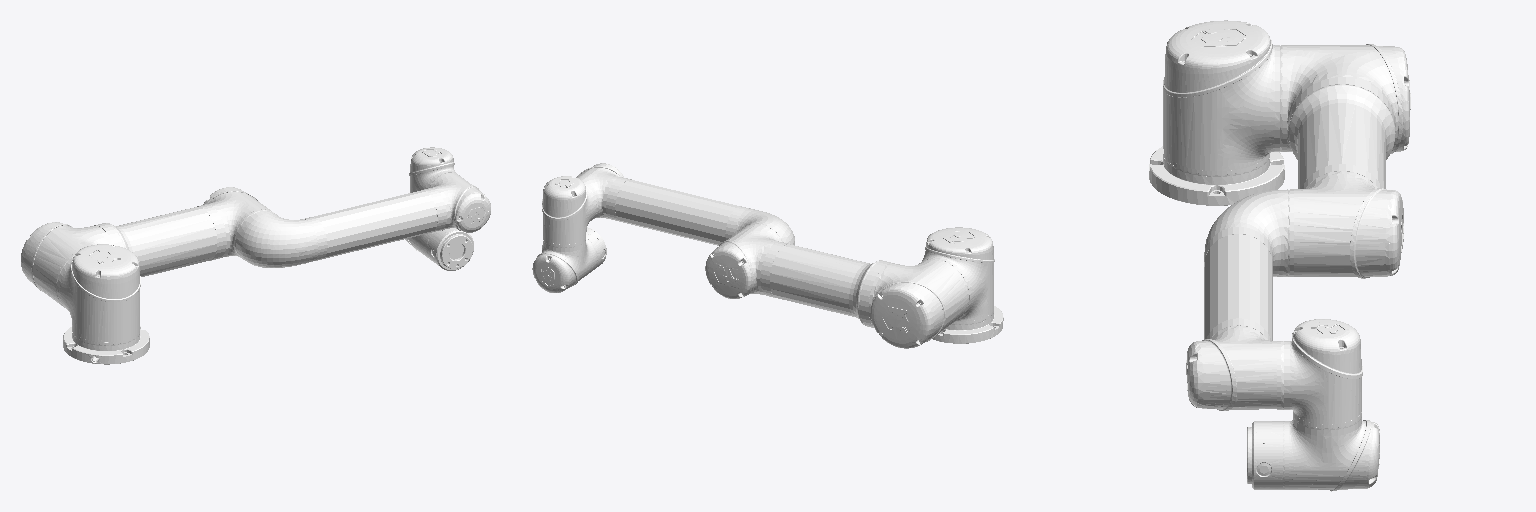
The robot description file, URDF, robot "ec68":
<?xml version="1.0" encoding="utf-8"?>
<robot
  name="ec68">
  <link name="world" />
  <joint name="world_joint" type="fixed">
    <origin xyz="0 0 0" rpy="0 0 0" />
    <parent link="world" />
    <child link="Base" />
  </joint>
  <link
    name="Base">
    <inertial>
      <origin
        xyz="0.00025241 0.00025241 0.012621"
        rpy="0 0 0" />
      <mass
        value="0.41638" />
      <inertia
        ixx="0.0005425"
        ixy="3.8503E-06"
        ixz="3.8056E-07"
        iyy="0.0005425"
        iyz="3.8056E-07"
        izz="0.0010347" />
    </inertial>
    <visual>
      <origin
        xyz="0 0 0"
        rpy="0 0 0" />
      <geometry>
        <mesh
          filename="package://elite_description/meshes/ec68/Base.STL" />
      </geometry>
      <material
        name="">
        <color
          rgba="1 1 1 1" />
      </material>
    </visual>
    <collision>
      <origin
        xyz="0 0 0"
        rpy="0 0 0" />
      <geometry>
        <mesh
          filename="package://elite_description/meshes/ec68/Base.STL" />
      </geometry>
    </collision>
  </link>
  <link
    name="Link1">
    <inertial>
      <origin
        xyz="6E-05 0.01652 0.0816"
        rpy="0 0 0" />
      <mass
        value="4.44" />
      <inertia
        ixx="0.010961"
        ixy="-1.68E-06"
        ixz="5.27E-06"
        iyy="0.007124"
        iyz="0.0010949"
        izz="0.01085" />
    </inertial>
    <visual>
      <origin
        xyz="0 0 0"
        rpy="0 0 0" />
      <geometry>
        <mesh
          filename="package://elite_description/meshes/ec68/Link1.STL" />
      </geometry>
      <material
        name="">
        <color
          rgba="1 1 1 1" />
      </material>
    </visual>
    <collision>
      <origin
        xyz="0 0 0"
        rpy="0 0 0" />
      <geometry>
        <mesh
          filename="package://elite_description/meshes/ec68/Link1.STL" />
      </geometry>
    </collision>
  </link>
  <joint
    name="joint1"
    type="revolute">
    <origin
      xyz="0 0 0"
      rpy="0 0 0" />
    <parent
      link="Base" />
    <child
      link="Link1" />
    <axis
      xyz="0 0 1" />
    <limit lower="-6.2832" upper="6.2832" effort="150" velocity="2.6199" />
  </joint>
  <link
    name="Link2">
    <inertial>
      <origin
        xyz="0.12147 0.00011 0.124"
        rpy="0 0 0" />
      <mass
        value="6.39" />
      <inertia
        ixx="0.010675"
        ixy="4.221E-05"
        ixz="0.0005118"
        iyy="0.15081"
        iyz="-1.804E-05"
        izz="0.1503" />
    </inertial>
    <visual>
      <origin
        xyz="0 0 0"
        rpy="0 0 0" />
      <geometry>
        <mesh
          filename="package://elite_description/meshes/ec68/Link2.STL" />
      </geometry>
      <material
        name="">
        <color
          rgba="1 1 1 1" />
      </material>
    </visual>
    <collision>
      <origin
        xyz="0 0 0"
        rpy="0 0 0" />
      <geometry>
        <mesh
          filename="package://elite_description/meshes/ec68/Link2.STL" />
      </geometry>
    </collision>
  </link>
  <joint
    name="joint2"
    type="revolute">
    <origin
      xyz="0 0 0.096"
      rpy="-1.5708 0 0" />
    <parent
      link="Link1" />
    <child
      link="Link2" />
    <axis
      xyz="0 0 1" />
    <limit lower="-6.2832" upper="6.2832" effort="150" velocity="2.6199" />
  </joint>
  <link
    name="Link3">
    <inertial>
      <origin
        xyz="0.18265 0.00011 0.04433"
        rpy="0 0 0" />
      <mass
        value="2.41" />
      <inertia
        ixx="0.0039137"
        ixy="3.401E-05"
        ixz="-0.004109"
        iyy="0.066574"
        iyz="9.63E-06"
        izz="0.065315" />
    </inertial>
    <visual>
      <origin
        xyz="0 0 0"
        rpy="0 0 0" />
      <geometry>
        <mesh
          filename="package://elite_description/meshes/ec68/Link3.STL" />
      </geometry>
      <material
        name="">
        <color
          rgba="1 1 1 1" />
      </material>
    </visual>
    <collision>
      <origin
        xyz="0 0 0"
        rpy="0 0 0" />
      <geometry>
        <mesh
          filename="package://elite_description/meshes/ec68/Link3.STL" />
      </geometry>
    </collision>
  </link>
  <joint
    name="joint3"
    type="revolute">
    <origin
      xyz="0.352 0 0"
      rpy="0 0 0" />
    <parent
      link="Link2" />
    <child
      link="Link3" />
    <axis
      xyz="0 0 1" />
    <limit lower="-6.2832" upper="6.2832" effort="150" velocity="3.3161" />
  </joint>
  <link
    name="Link4">
    <inertial>
      <origin
        xyz="-0.00022 0.01238 0.1069"
        rpy="0 0 0" />
      <mass
        value="1.1" />
      <inertia
        ixx="0.001562"
        ixy="7.41E-06"
        ixz="5.3E-07"
        iyy="0.001361"
        iyz="0.0002113"
        izz="0.000988" />
    </inertial>
    <visual>
      <origin
        xyz="0 0 0"
        rpy="0 0 0" />
      <geometry>
        <mesh
          filename="package://elite_description/meshes/ec68/Link4.STL" />
      </geometry>
      <material
        name="">
        <color
          rgba="1 1 1 1" />
      </material>
    </visual>
    <collision>
      <origin
        xyz="0 0 0"
        rpy="0 0 0" />
      <geometry>
        <mesh
          filename="package://elite_description/meshes/ec68/Link4.STL" />
      </geometry>
    </collision>
  </link>
  <joint
    name="joint4"
    type="revolute">
    <origin
      xyz="0.37 0 0"
      rpy="0 0 0" />
    <parent
      link="Link3" />
    <child
      link="Link4" />
    <axis
      xyz="0 0 1" />
    <limit lower="-6.2832" upper="6.2832" effort="28" velocity="4.5379" />
  </joint>
  <link
    name="Link5">
    <inertial>
      <origin
        xyz="-0.00022 0.01238 0.0829"
        rpy="0 0 0" />
      <mass
        value="1.1" />
      <inertia
        ixx="0.0015621"
        ixy="7.41E-06"
        ixz="5.3E-07"
        iyy="0.0013613"
        iyz="0.0002113"
        izz="0.0009879" />
    </inertial>
    <visual>
      <origin
        xyz="0 0 0"
        rpy="0 0 0" />
      <geometry>
        <mesh
          filename="package://elite_description/meshes/ec68/Link5.STL" />
      </geometry>
      <material
        name="">
        <color
          rgba="1 1 1 1" />
      </material>
    </visual>
    <collision>
      <origin
        xyz="0 0 0"
        rpy="0 0 0" />
      <geometry>
        <mesh
          filename="package://elite_description/meshes/ec68/Link5.STL" />
      </geometry>
    </collision>
  </link>
  <joint
    name="joint5"
    type="revolute">
    <origin
      xyz="0 0 0.122"
      rpy="-1.5708 0 0" />
    <parent
      link="Link4" />
    <child
      link="Link5" />
    <axis
      xyz="0 0 1" />
    <limit lower="-6.2832" upper="6.2832" effort="28" velocity="4.5379" />
  </joint>
  <link
    name="Link6">
    <inertial>
      <origin
        xyz="-0.00015 0.00031 0.0558"
        rpy="0 0 0" />
      <mass
        value="0.46" />
      <inertia
        ixx="0.000398"
        ixy="4.4E-07"
        ixz="-1.07E-06"
        iyy="0.000406"
        iyz="2.4E-06"
        izz="0.000309" />
    </inertial>
    <visual>
      <origin
        xyz="0 0 0"
        rpy="0 0 0" />
      <geometry>
        <mesh
          filename="package://elite_description/meshes/ec68/Link6.STL" />
      </geometry>
      <material
        name="">
        <color
          rgba="1 1 1 1" />
      </material>
    </visual>
    <collision>
      <origin
        xyz="0 0 0"
        rpy="0 0 0" />
      <geometry>
        <mesh
          filename="package://elite_description/meshes/ec68/Link6.STL" />
      </geometry>
    </collision>
  </link>
  <joint
    name="joint6"
    type="revolute">
    <origin
      xyz="0 0 0.098"
      rpy="-1.5708 0 0" />
    <parent
      link="Link5" />
    <child
      link="Link6" />
    <axis
      xyz="0 0 1" />
    <limit lower="-6.2832" upper="6.2832" effort="28" velocity="4.5379" />
  </joint>
  <link name="flan" />  
  <joint name="flan_joint" type="fixed">
    <origin xyz="0 0 0.089" rpy="0 0 0" />
    <parent link="Link6" />
    <child link="flan" />
    <axis xyz="0 0 0" />
  </joint>  

  <ros2_control name="MockHardwareSystem" type="system">
    <hardware>
        <plugin>mock_components/GenericSystem</plugin>
        <param name="calculate_dynamics">false</param>
        <param name="custom_interface_with_following_offset"></param>
        <param name="disable_commands">false</param>
        <param name="mock_gpio_commands">false</param>
        <param name="mock_sensor_commands">false</param>
        <param name="position_state_following_offset">0.0</param>
    </hardware>
  </ros2_control>
    
</robot>

--- Facts derived from the render (not from the file) ---
3 views of the same robot in one strip: view 1: azimuth 30°, elevation 25°; view 2: azimuth 150°, elevation 25°; view 3: azimuth 270°, elevation 25° (orthographic).
Model ec68 with 9 links and 8 joints (6 revolute, 2 fixed), rooted at world, posed all joints at 0.
Links seen in each view (by area): view 1: Link3, Link2, Link1, Base, Link6, Link4; view 2: Link2, Link3, Link1, Link4, Link5, Base; view 3: Link2, Link3, Link1, Link4, Link5, Base, Link6.
Link boxes in pixels (left/top/right/bottom): Link3: left=236, top=173, right=490, bottom=267; Link2: left=21, top=187, right=273, bottom=307; Link1: left=57, top=244, right=140, bottom=345; Base: left=63, top=326, right=149, bottom=364; Link6: left=427, top=228, right=473, bottom=270; Link4: left=409, top=147, right=456, bottom=192; Link2: left=705, top=223, right=968, bottom=348; Link3: left=576, top=163, right=794, bottom=245; Link1: left=922, top=227, right=994, bottom=324; Link4: left=542, top=176, right=596, bottom=247; Link5: left=532, top=238, right=597, bottom=292; Base: left=933, top=306, right=1003, bottom=343; Link2: left=1280, top=44, right=1410, bottom=278; Link3: left=1186, top=189, right=1287, bottom=410; Link1: left=1163, top=20, right=1279, bottom=176; Link4: left=1284, top=319, right=1362, bottom=429; Link5: left=1283, top=417, right=1379, bottom=491; Base: left=1149, top=146, right=1284, bottom=205; Link6: left=1247, top=421, right=1282, bottom=489.
Size in the robot's own frame: 0.8367 by 0.2891 by 0.2136 metres.
Meshes: 7 distinct files referenced, 7 mesh visuals loaded (7 binary STL).
